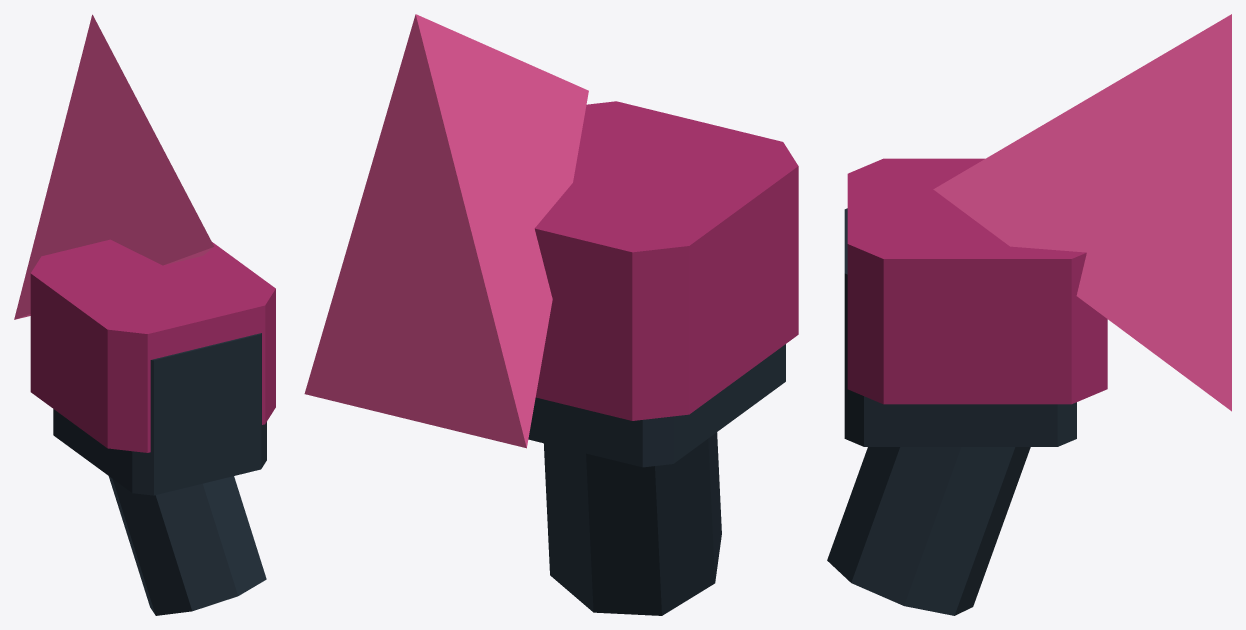
Rendered from enemy_striker_lod_upper_arm_r.obj.
3 renders of one model, left to right at view 1: azimuth 30°, elevation 25°; view 2: azimuth 150°, elevation 25°; view 3: azimuth 270°, elevation 25°, orthographic. The views are drawn at different scales.
Size of the model in its own units: 0.525 by 1.21 by 0.7321.
